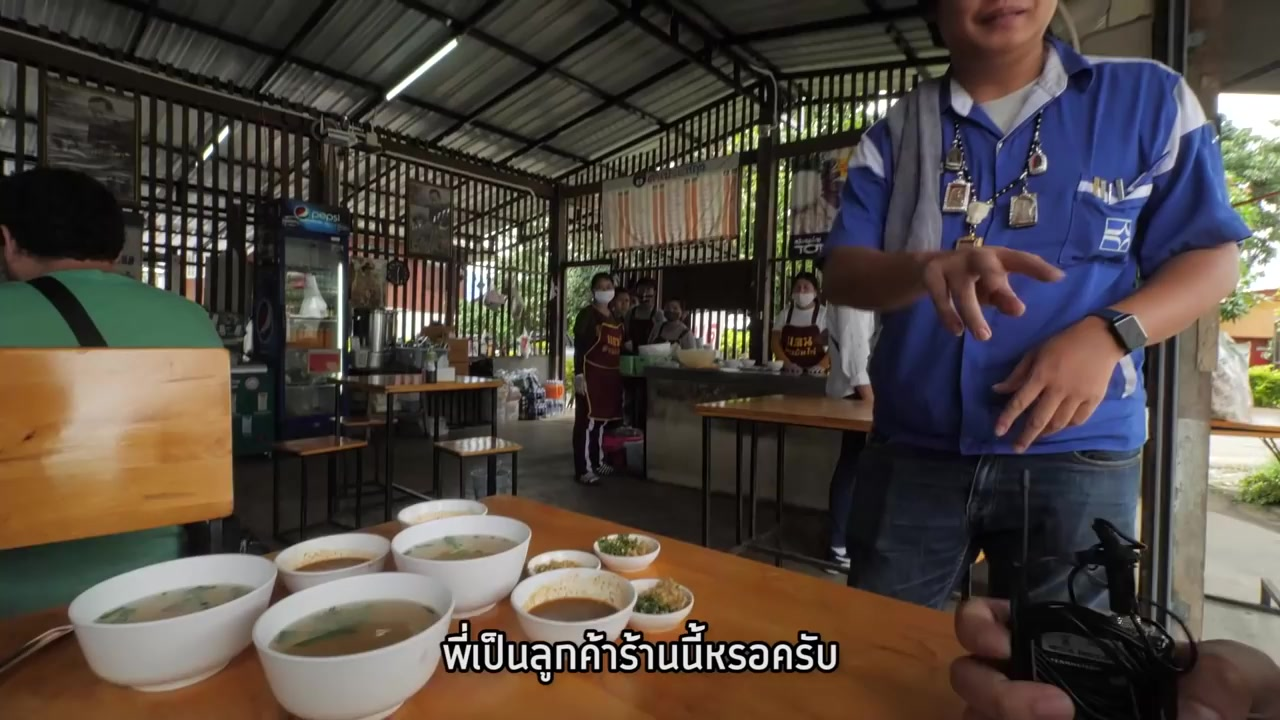text-label: (436, 615, 844, 684)
